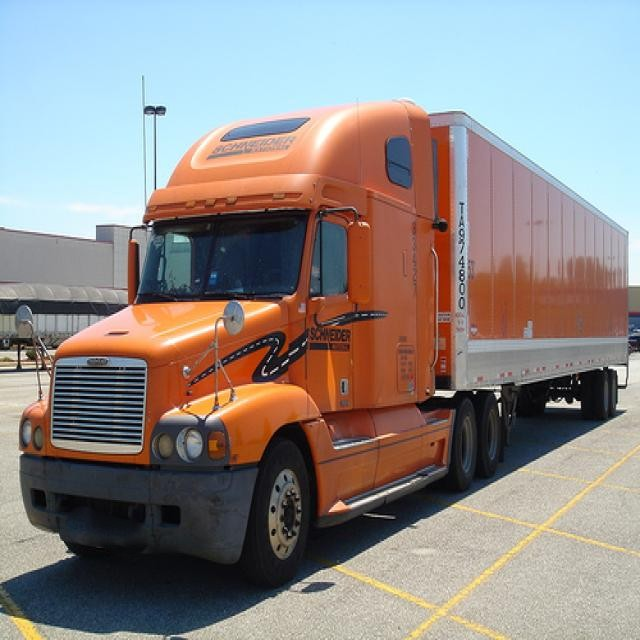truck: (24, 94, 628, 583)
